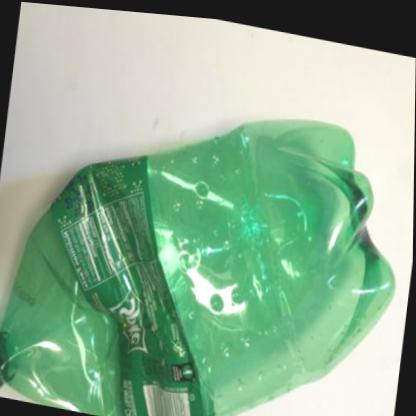Plastic: (0, 114, 395, 416)
